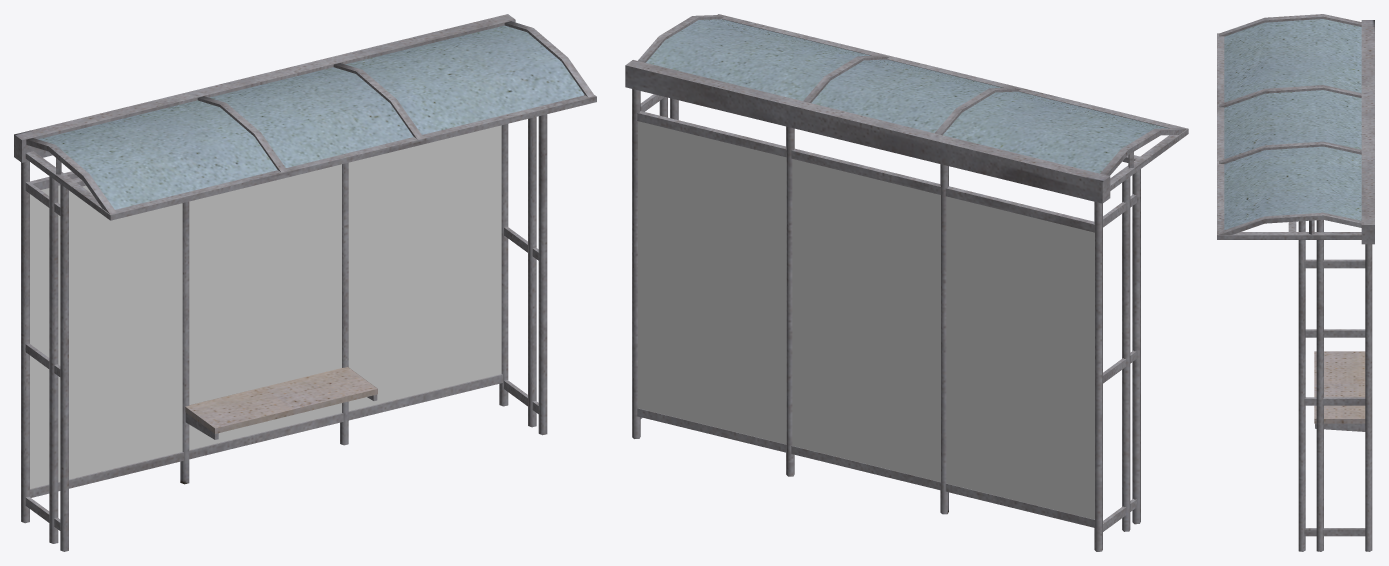
The model's file is bus_stop.glb.
The picture shows the model from 3 angles, left to right: view 1: azimuth 30°, elevation 25°; view 2: azimuth 150°, elevation 25°; view 3: azimuth 270°, elevation 25°; orthographic projection. The views are drawn at different scales.
Visible parts, largest first — view 1: Bus_stop; view 2: Bus_stop; view 3: Bus_stop.
Boxes of the visible parts, box(x1,y1,x2,y2) form: Bus_stop: box(14, 14, 596, 551); Bus_stop: box(625, 14, 1188, 551); Bus_stop: box(1217, 14, 1374, 551).
Size of the model in its own units: 4.17 by 3.19 by 1.36.
2 materials, 1 textured.
